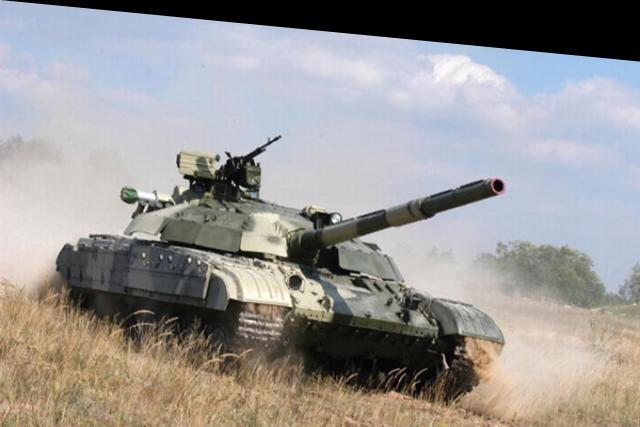tank: (60, 135, 504, 394)
